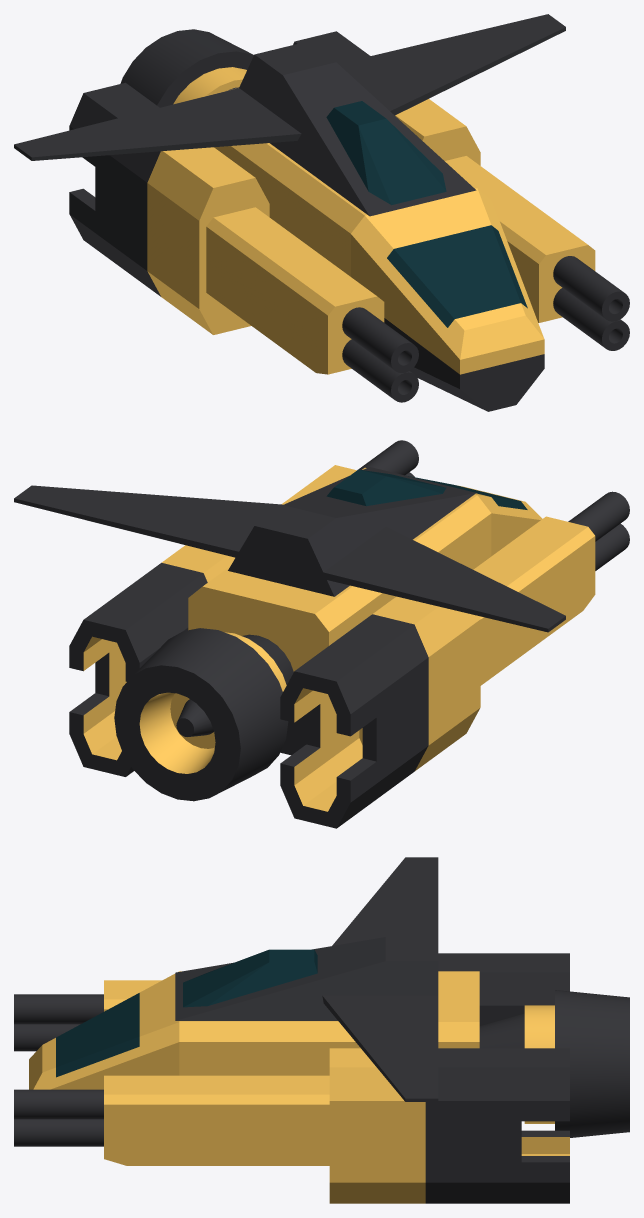
Rendered from enemy_ship.fbx.
3 renders of one model, top to bottom at view 1: azimuth 30°, elevation 25°; view 2: azimuth 150°, elevation 25°; view 3: azimuth 270°, elevation 25°, orthographic. The views are drawn at different scales.
Visible parts, largest first — view 1: mergedBlocks; view 2: mergedBlocks; view 3: mergedBlocks.
Part boxes in pixels (bbox=[...]): mergedBlocks: bbox=[14, 14, 629, 411]; mergedBlocks: bbox=[14, 440, 629, 828]; mergedBlocks: bbox=[14, 857, 629, 1203].
Size of the model in its own units: 38 by 14.5 by 41.
